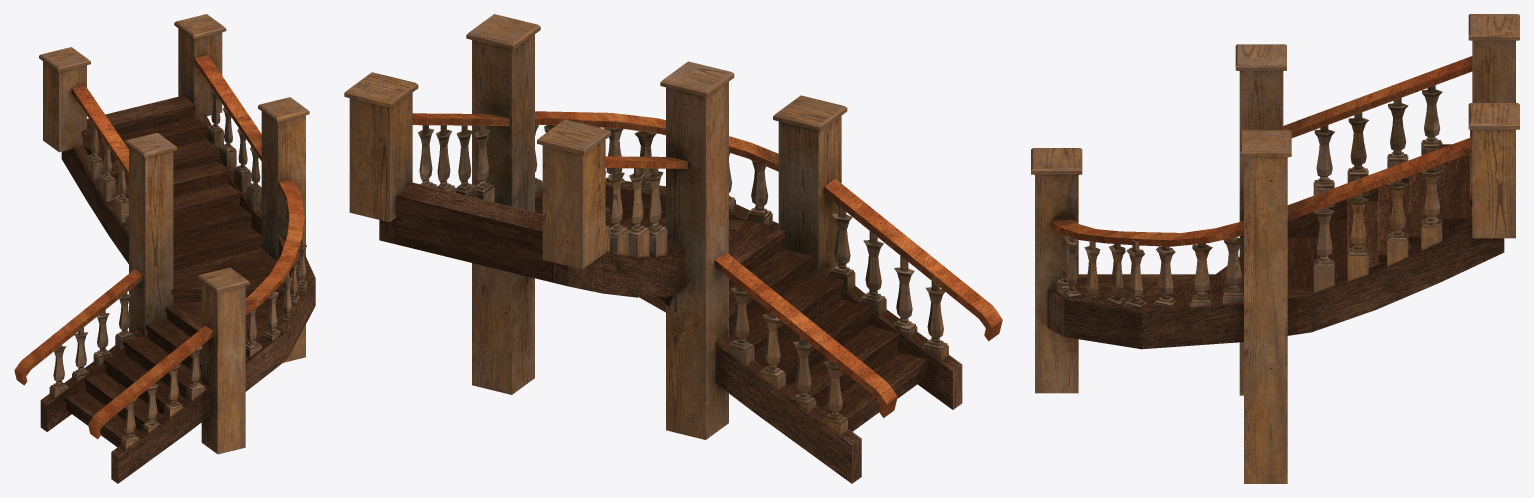
Rendered from woden_hall_stair.glb.
3 views of the same model, side by side, from view 1: azimuth 30°, elevation 25°; view 2: azimuth 150°, elevation 25°; view 3: azimuth 270°, elevation 25° (orthographic). The views are drawn at different scales.
Parts seen in each view (by area): view 1: Object_3, Object_4, Object_2; view 2: Object_3, Object_4, Object_2; view 3: Object_3, Object_4, Object_2.
Part boxes in pixels (bbox=[...]): Object_3: bbox=[39, 14, 309, 454]; Object_4: bbox=[40, 95, 315, 483]; Object_2: bbox=[14, 54, 304, 439]; Object_3: bbox=[344, 14, 948, 439]; Object_4: bbox=[379, 178, 962, 483]; Object_2: bbox=[412, 111, 1002, 417]; Object_3: bbox=[1031, 14, 1519, 483]; Object_4: bbox=[1047, 129, 1504, 349]; Object_2: bbox=[1051, 56, 1472, 246].
Size of the model in its own units: 570 by 533 by 623.
Materials: 3 (3 with a texture image).
